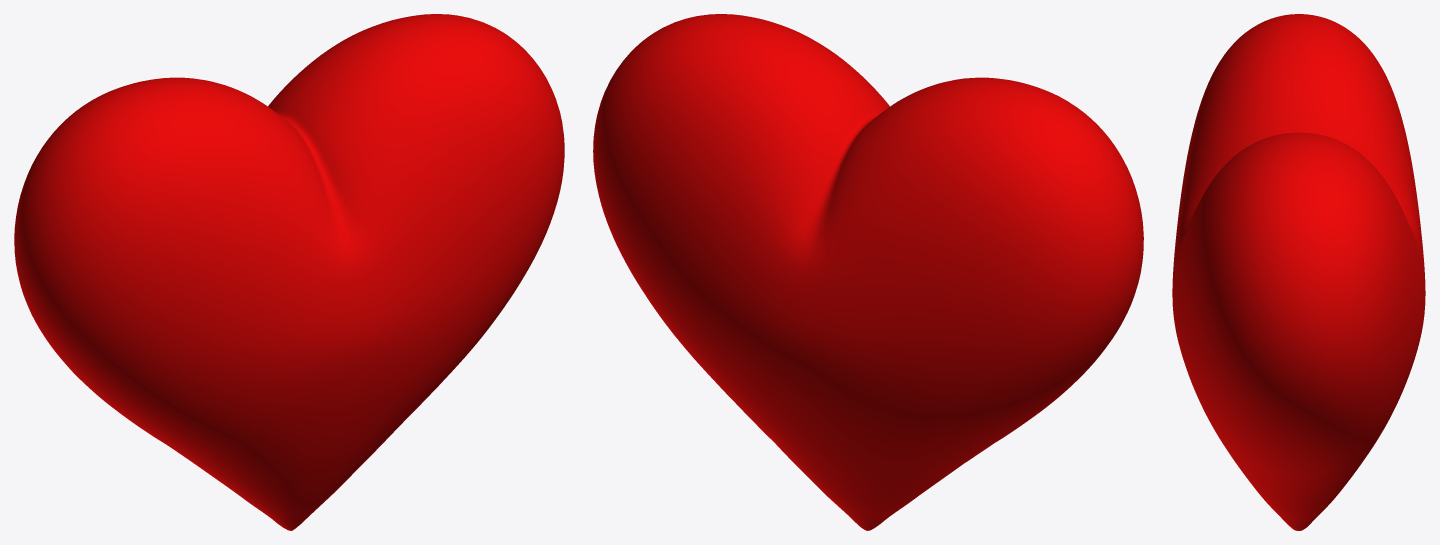
Rendered from Heart_HighPoly.fbx.
The picture shows the model from 3 angles, left to right: view 1: azimuth 30°, elevation 25°; view 2: azimuth 150°, elevation 25°; view 3: azimuth 270°, elevation 25°; orthographic projection. The views are drawn at different scales.
Visible parts, largest first — view 1: Heart_02; view 2: Heart_02; view 3: Heart_02.
Part boxes in pixels (bbox=[...]): Heart_02: bbox=[14, 14, 564, 530]; Heart_02: bbox=[593, 14, 1143, 530]; Heart_02: bbox=[1172, 14, 1425, 530].
Bounding box in the file's own units: 18.99 × 16.3 × 8.46.
